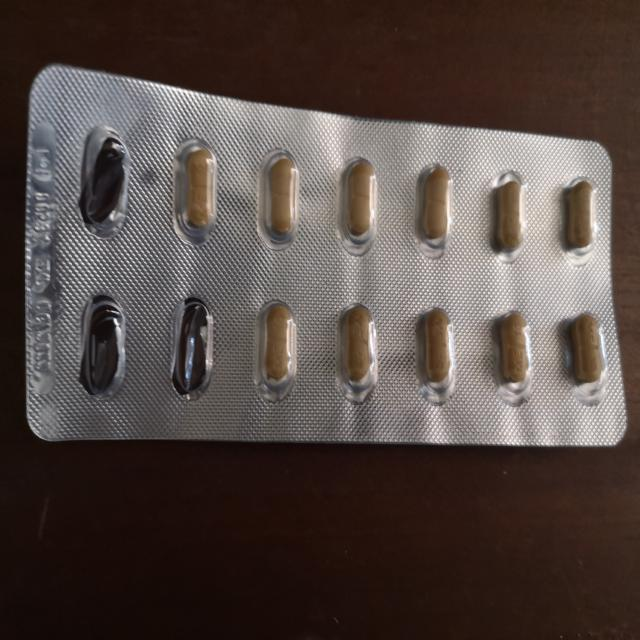Empty: (76, 108, 135, 250), (71, 280, 135, 408), (164, 284, 226, 411)
Pill: (166, 129, 226, 252), (252, 144, 308, 260), (406, 295, 464, 404), (329, 144, 386, 254), (330, 297, 386, 400), (252, 290, 303, 402), (406, 144, 456, 256), (479, 162, 531, 264), (480, 301, 536, 394), (554, 165, 602, 262), (560, 296, 606, 396)
